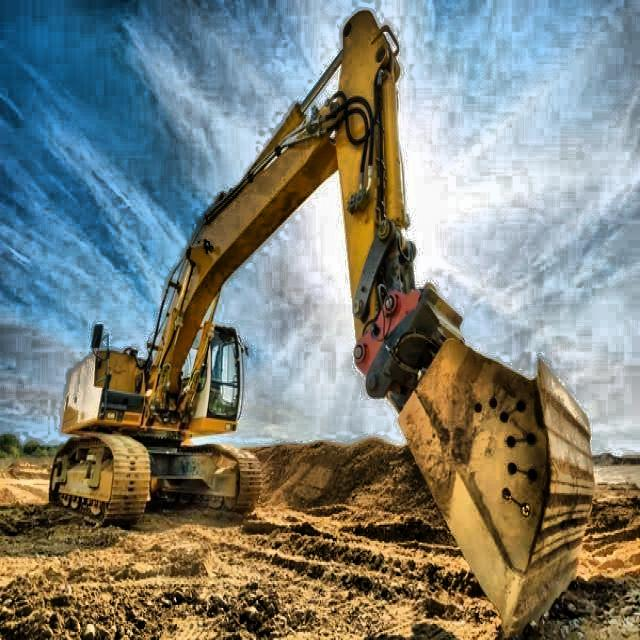excavator: (45, 7, 598, 638)
